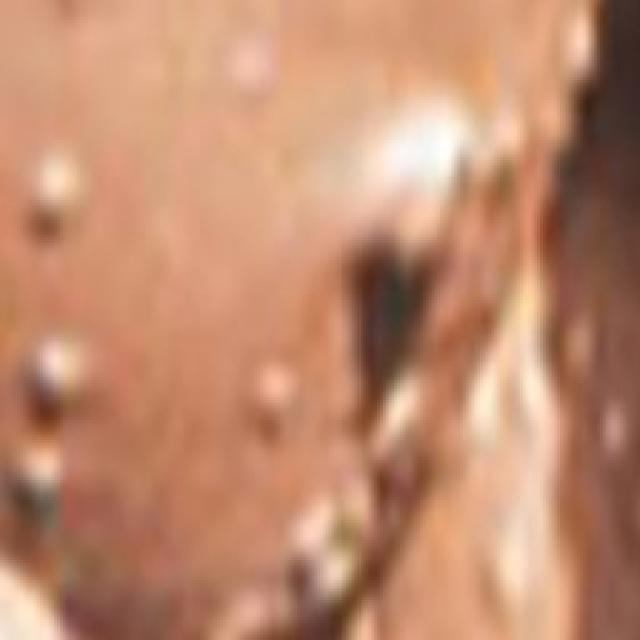Eczema: (0, 17, 612, 640)
